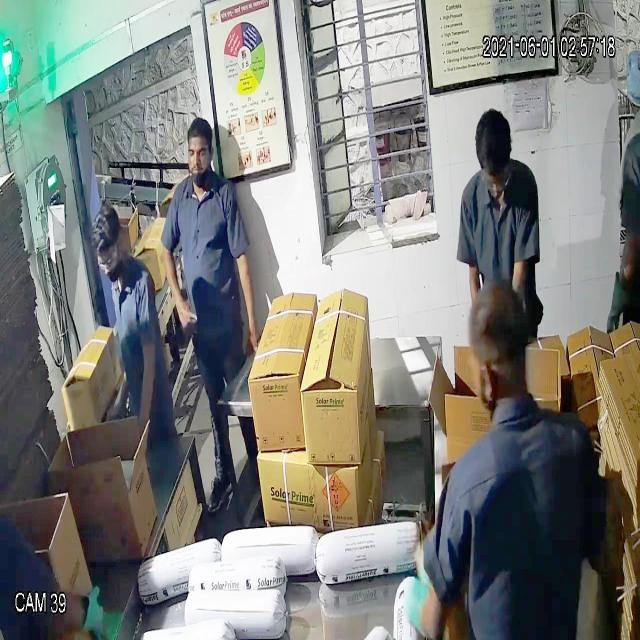glasses: (95, 238, 124, 275)
